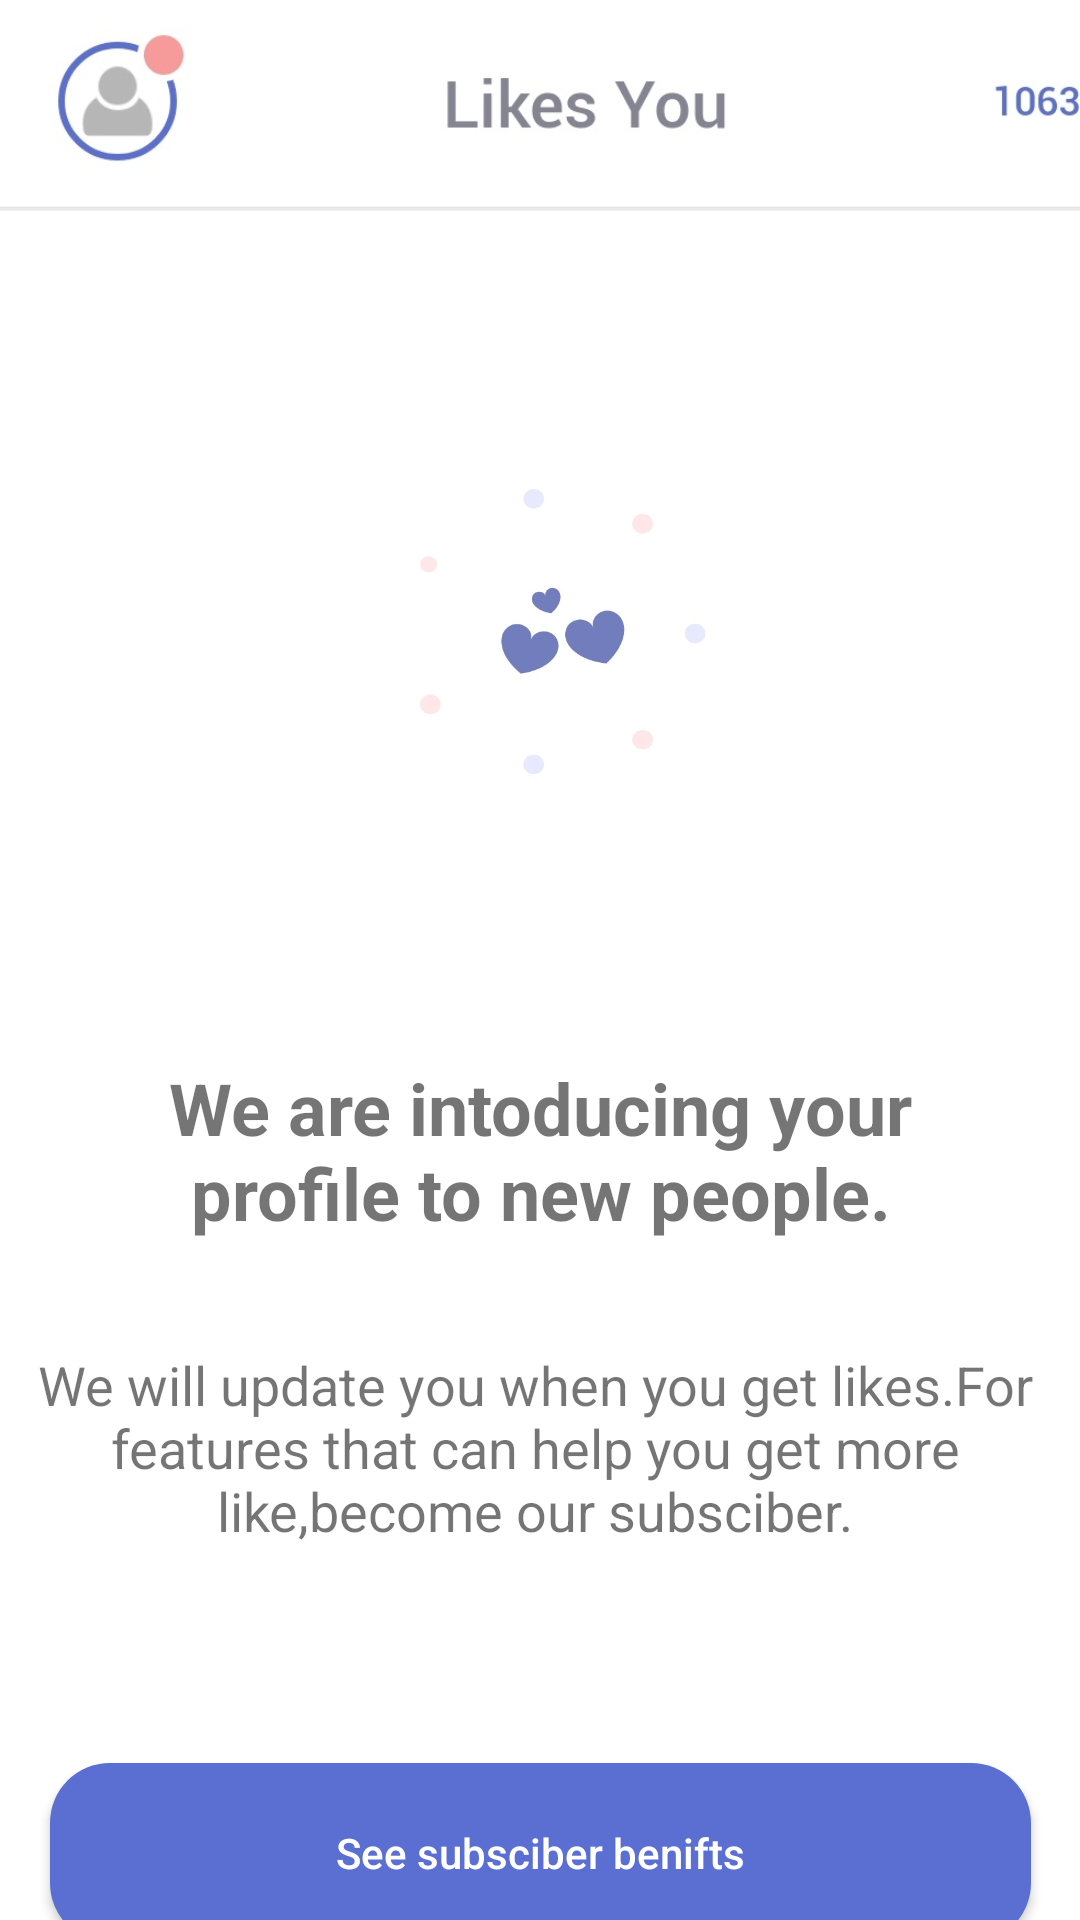

Where icons sit on this 1080×1920 app screen, as box(x1, y1, x2, y2):
like page: box(421, 490, 704, 773)
